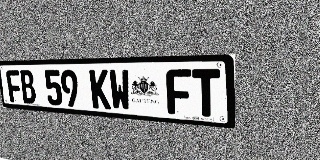5: (44, 70, 63, 106)
9: (60, 70, 80, 107)
B: (19, 70, 37, 104)
F: (166, 69, 192, 115), (6, 70, 23, 103)
K: (89, 70, 111, 109)
T: (192, 69, 220, 118)
W: (108, 69, 132, 111)
